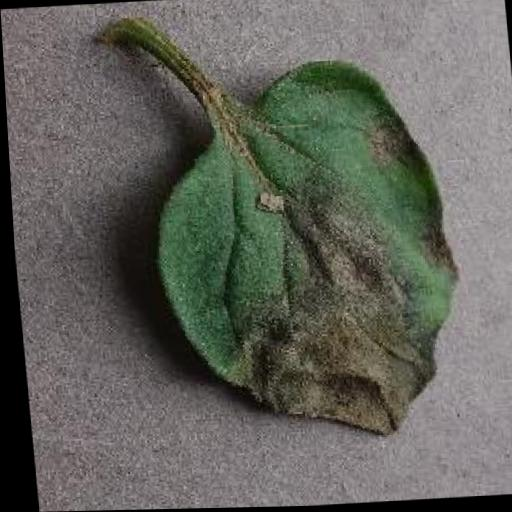Late Blight: (137, 57, 466, 451)
